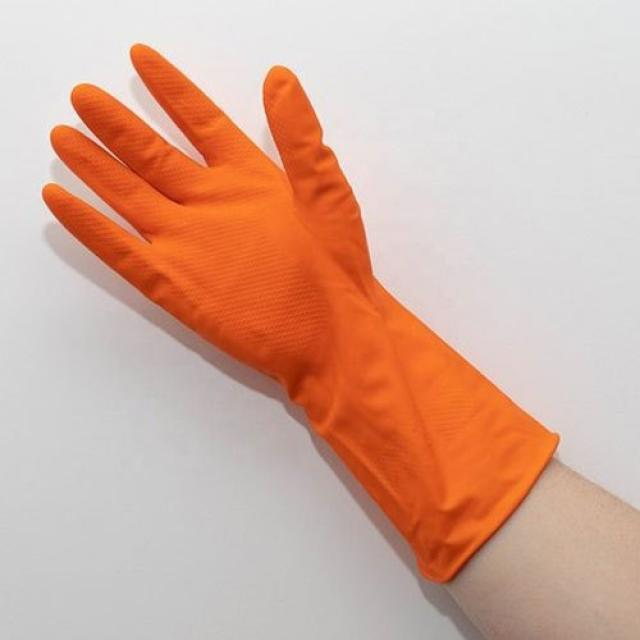gloves: (42, 44, 561, 588)
